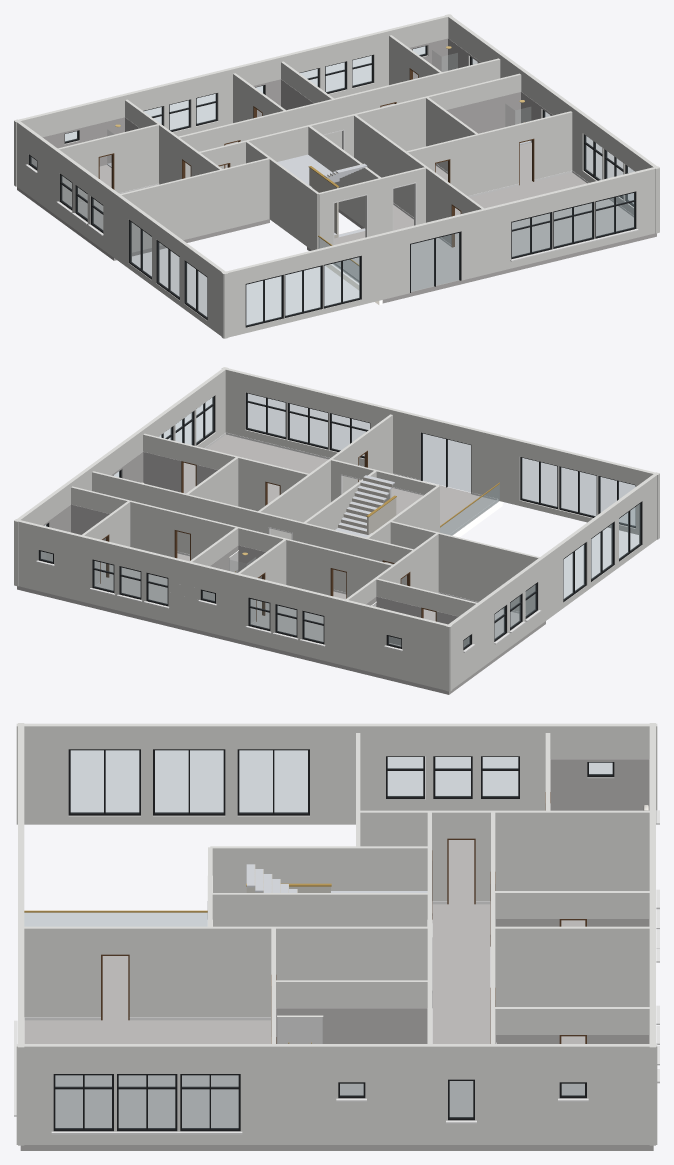
File: int_est_S9_1.glb
The picture shows the model from 3 angles, top to bottom: view 1: azimuth 30°, elevation 25°; view 2: azimuth 150°, elevation 25°; view 3: azimuth 270°, elevation 25°; orthographic projection. The views are drawn at different scales.
Parts seen in each view (by area): view 1: WALL_0, ROOM, WALL_14, WALL_5, WALL_4, WALL_9, WALL_7, WALL_10, WALL_15, WALL_2, WALL_12, WALL_6 (+7 smaller); view 2: WALL_14, WALL_0, ROOM, WALL_5, WALL_15, WALL_7, WALL_10, WALL_4, WALL_2, WALL_9, WALL_13, WALL_12 (+7 smaller); view 3: WALL_10, WALL_5, ROOM, WALL_2, WALL_13, WALL_3, WALL_1, WALL_8, WALL_17, WALL_16, WALL_11, WALL_14 (+3 smaller).
Part boxes in pixels (box(x1,y1,x2,y2)): WALL_0: box(221, 166, 659, 338); ROOM: box(17, 38, 656, 305); WALL_14: box(14, 14, 451, 186); WALL_5: box(14, 119, 228, 338); WALL_4: box(120, 158, 269, 252); WALL_9: box(405, 111, 572, 195); WALL_7: box(198, 73, 521, 167); WALL_10: box(446, 14, 659, 233); WALL_15: box(177, 58, 500, 177); WALL_2: box(354, 115, 483, 247); WALL_12: box(58, 124, 159, 205); WALL_6: box(318, 167, 426, 248); WALL_14: box(14, 519, 452, 691); WALL_0: box(221, 367, 659, 539); ROOM: box(17, 432, 545, 694); WALL_5: box(445, 472, 659, 691); WALL_15: box(71, 486, 393, 598); WALL_7: box(92, 471, 414, 592); WALL_10: box(14, 367, 227, 586); WALL_4: box(390, 521, 539, 613); WALL_2: box(258, 414, 392, 539); WALL_9: box(143, 433, 309, 511); WALL_13: box(346, 533, 438, 604); WALL_12: box(375, 578, 477, 621); WALL_10: box(16, 1044, 657, 1144); WALL_5: box(16, 723, 657, 824); ROOM: box(20, 759, 653, 1150); WALL_2: box(24, 926, 427, 1020); WALL_13: box(360, 810, 649, 904); WALL_3: box(495, 926, 649, 1006); WALL_1: box(210, 846, 427, 892); WALL_8: box(212, 893, 427, 926); WALL_17: box(495, 1007, 649, 1043); WALL_16: box(495, 891, 649, 926); WALL_11: box(273, 980, 427, 1007); WALL_14: box(649, 723, 659, 1145).
Bounding box in the file's own units: 25.63 × 3.9 × 21.43.
Materials: 13 (1 with a texture image).
